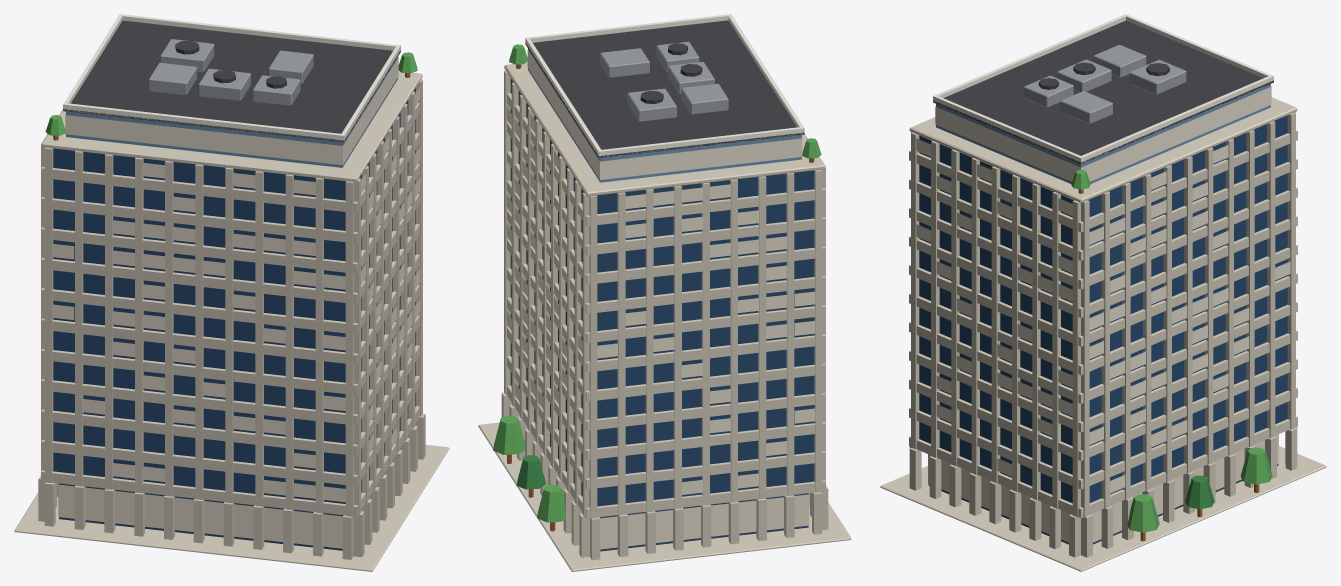
File: 60-spear.glb
The picture shows the model from 3 angles, left to right: view 1: azimuth 30°, elevation 25°; view 2: azimuth 150°, elevation 25°; view 3: azimuth 270°, elevation 25°; orthographic projection. The views are drawn at different scales.
Visible parts, largest first — view 1: 60-spear_body, 60-spear_night_glow; view 2: 60-spear_body, 60-spear_night_glow; view 3: 60-spear_body, 60-spear_night_glow.
Boxes of the visible parts, x1=… form: 60-spear_body: x1=14, y1=14, x2=449, y2=571; 60-spear_night_glow: x1=52, y1=57, x2=420, y2=548; 60-spear_body: x1=478, y1=14, x2=851, y2=571; 60-spear_night_glow: x1=506, y1=49, x2=815, y2=549; 60-spear_body: x1=880, y1=14, x2=1326, y2=571; 60-spear_night_glow: x1=916, y1=86, x2=1290, y2=542.
Bounding box in the file's own units: 58.22 × 57.9 × 58.17.
